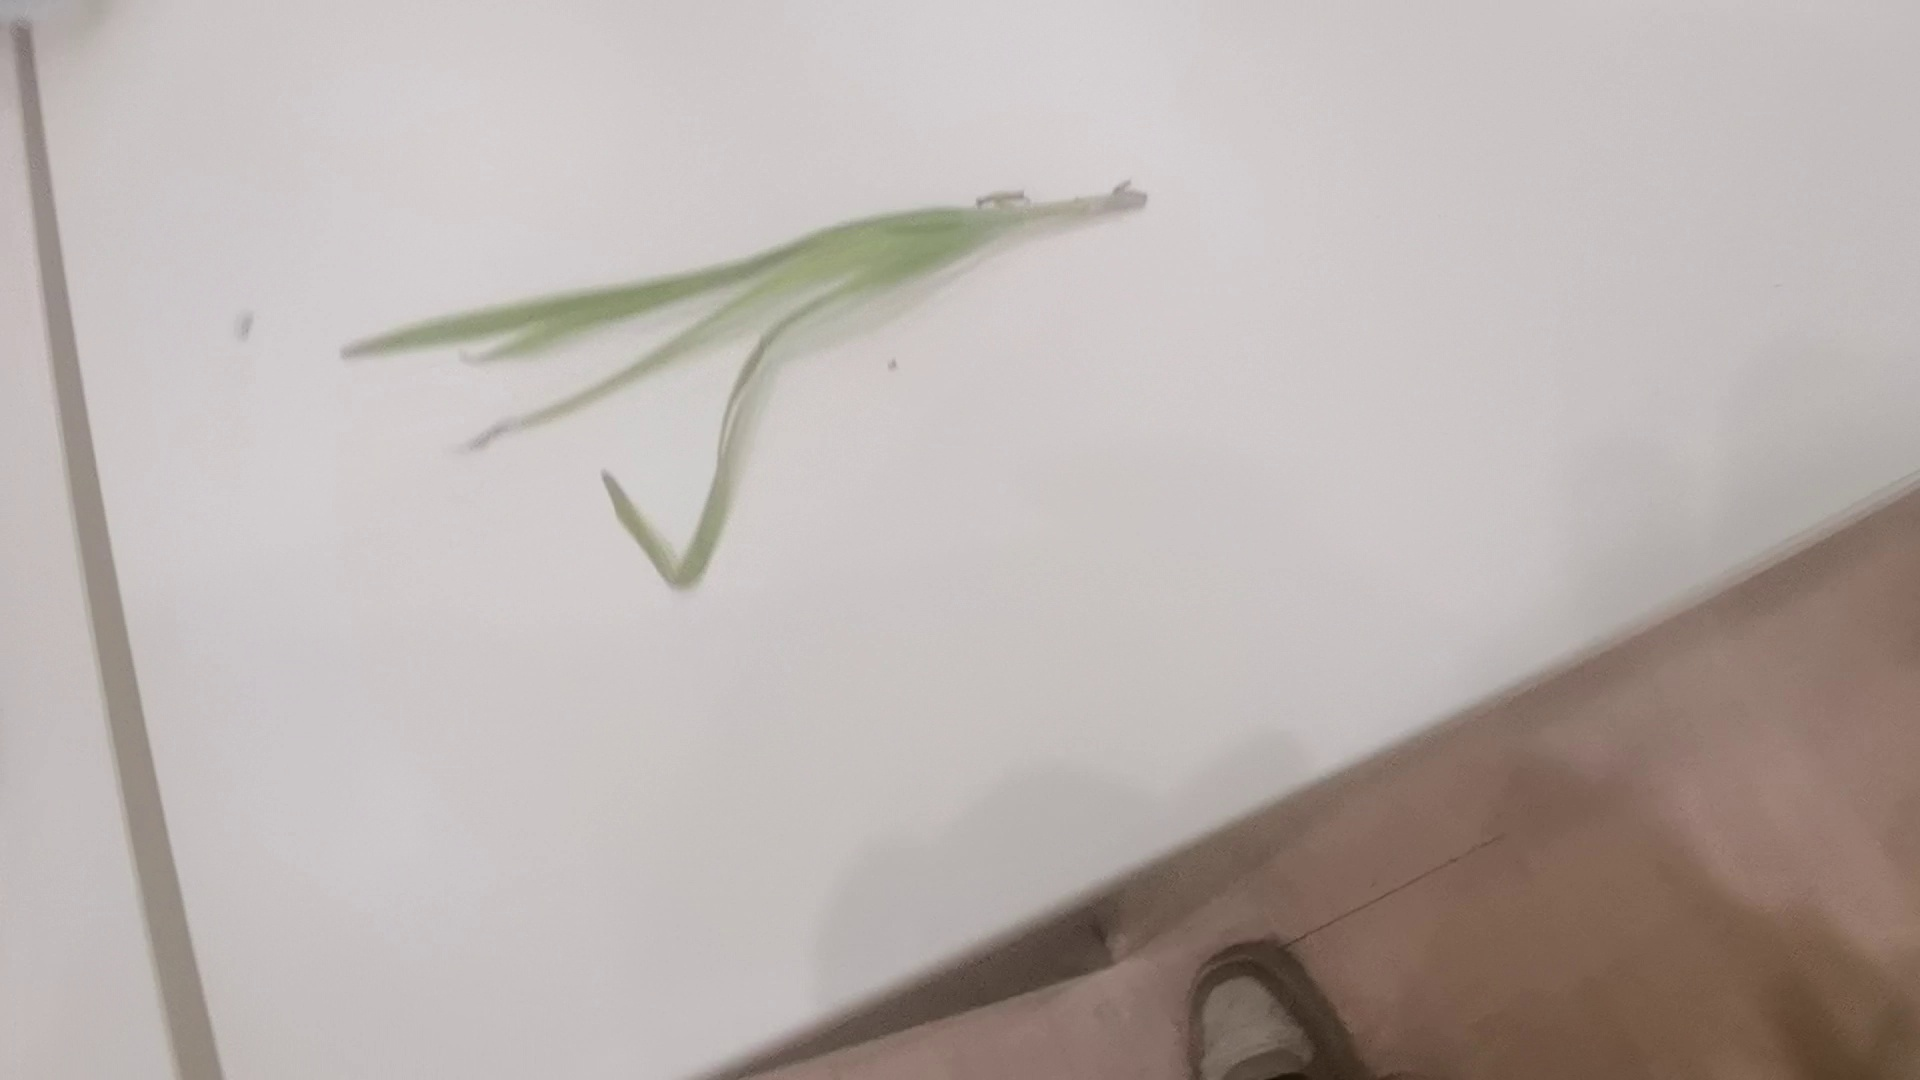chives: (315, 173, 1208, 583)
